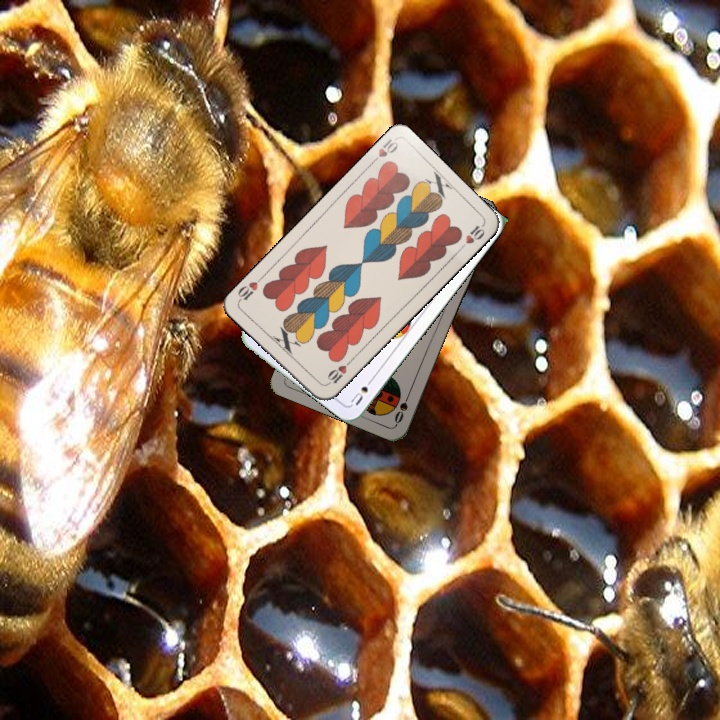H10: (366, 134, 400, 168), (322, 356, 354, 388)
SO: (390, 387, 413, 426)
SU: (346, 373, 377, 408)
